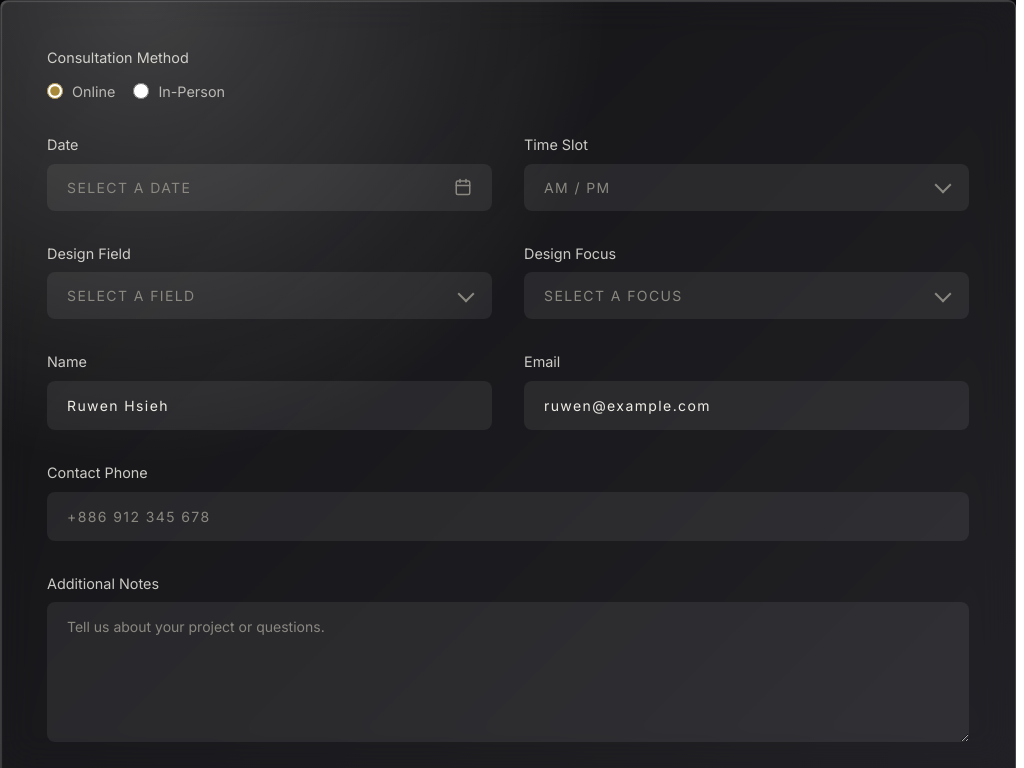
Test: RecommendationPanel › keeps dates selectable while monthly availability is loading
Click the button with class "recommendation-panel__date-trigger" at (129, 187), box top-left (47, 164), bottom-right (492, 211)
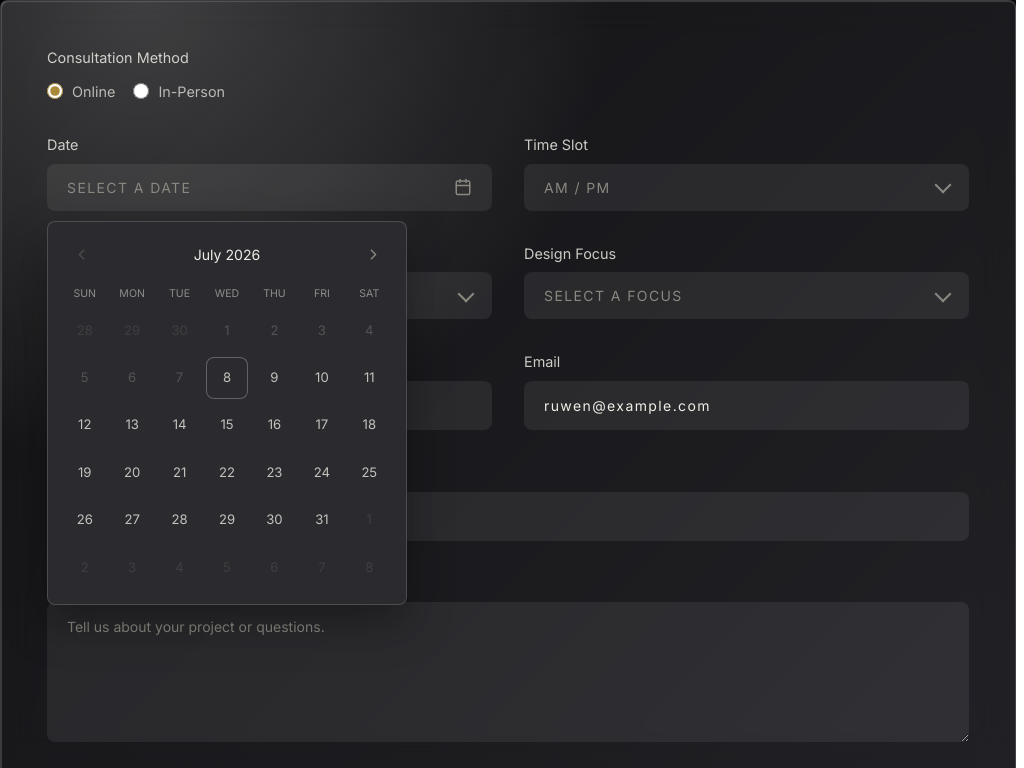
Now the button with class "recommendation-panel__calendar-day" showing "10" is shown
Now the button with class "recommendation-panel__calendar-day" showing "10" is enabled
Click the button with class "recommendation-panel__calendar-day" showing "10" at (322, 378), box top-left (301, 357), bottom-right (342, 398)
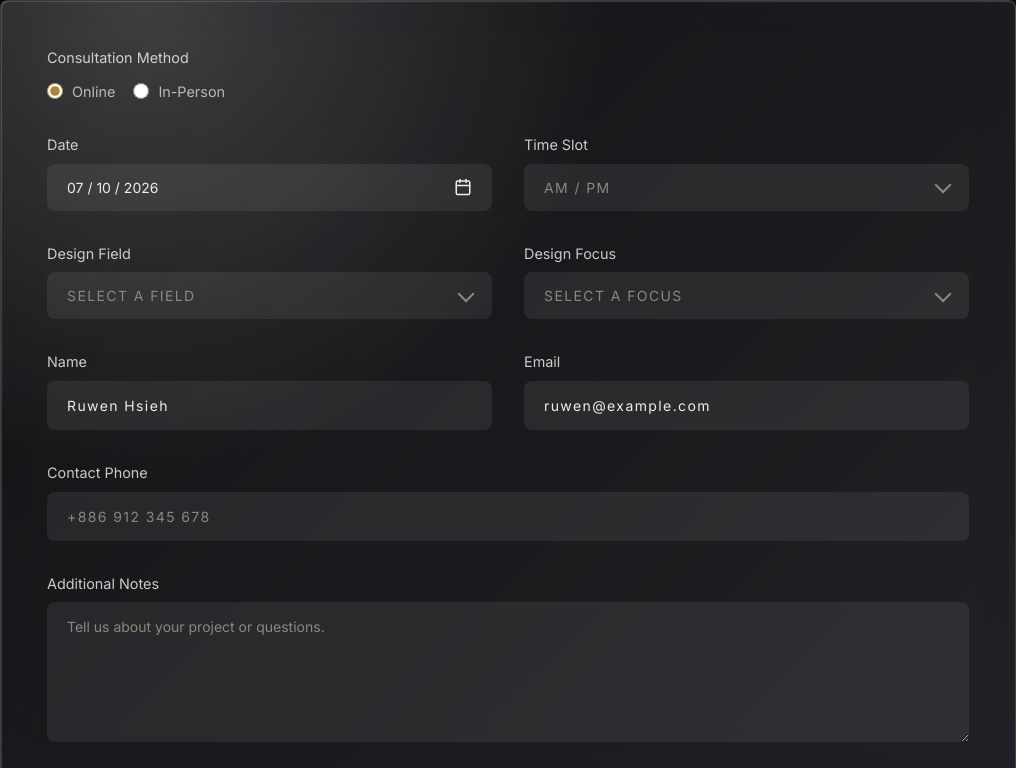
Now the button with class "recommendation-panel__date-trigger" reads "07 / 10 / 2026", box top-left (47, 164), bottom-right (492, 211)
